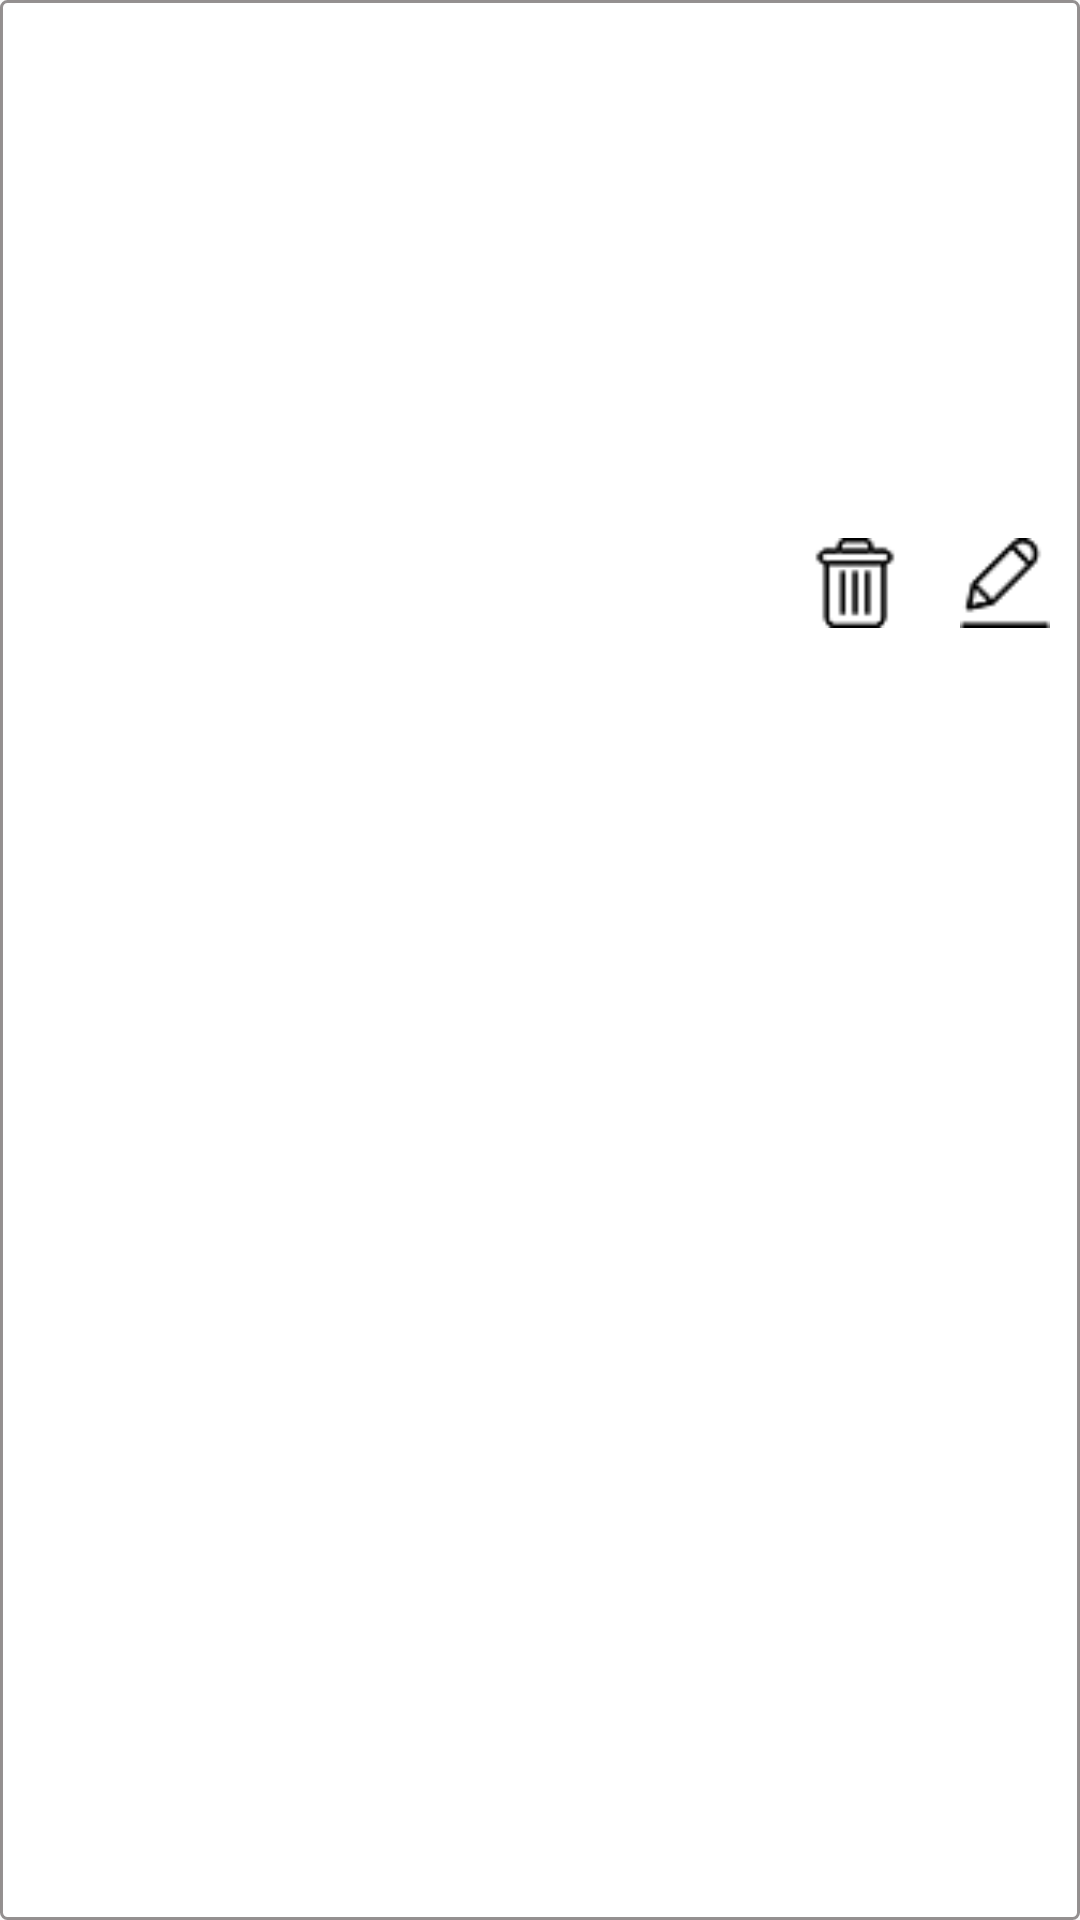

Screen size 1080px×1920px. Icon name, then its center in pixels as (x,y):
delete: (855,583)
edit: (1005,583)
